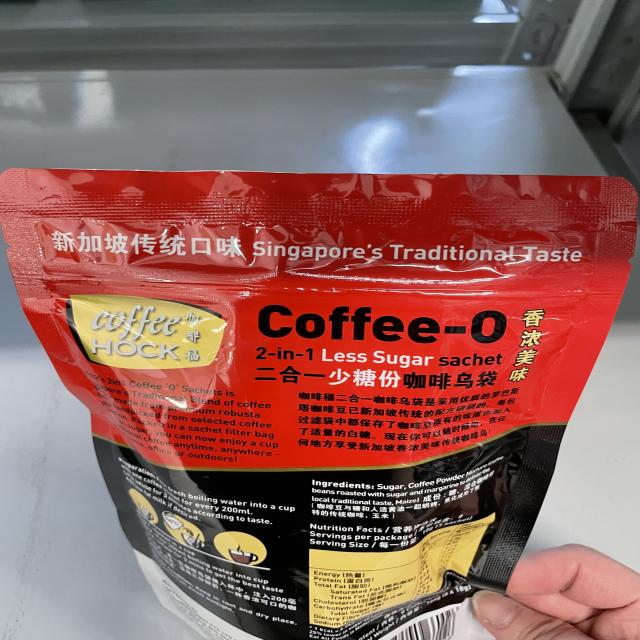object_name: (15, 176, 571, 635)
